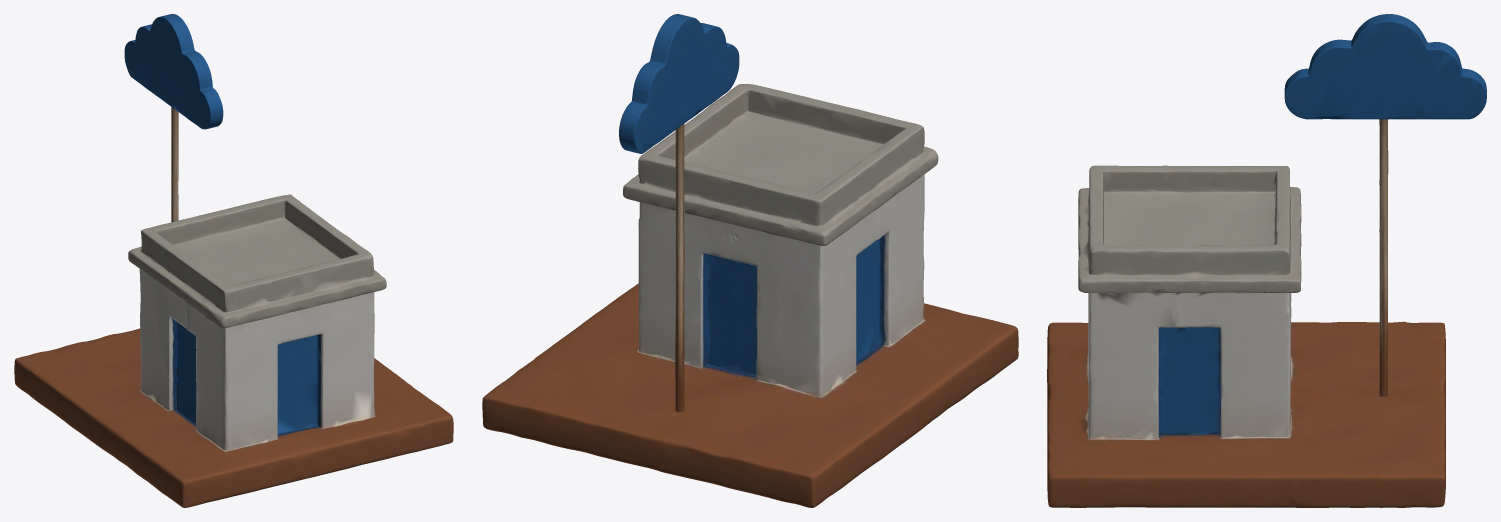
The model's file is rain-house.glb.
The picture shows the model from 3 angles, left to right: view 1: azimuth 30°, elevation 25°; view 2: azimuth 150°, elevation 25°; view 3: azimuth 270°, elevation 25°; orthographic projection. The views are drawn at different scales.
Parts seen in each view (by area): view 1: tripo_node_44416784-b95a-4059-a0ae-e25ae5531aa0; view 2: tripo_node_44416784-b95a-4059-a0ae-e25ae5531aa0; view 3: tripo_node_44416784-b95a-4059-a0ae-e25ae5531aa0.
Part boxes in pixels (left/top/right/bottom): tripo_node_44416784-b95a-4059-a0ae-e25ae5531aa0: left=14, top=14, right=453, bottom=507; tripo_node_44416784-b95a-4059-a0ae-e25ae5531aa0: left=482, top=14, right=1018, bottom=507; tripo_node_44416784-b95a-4059-a0ae-e25ae5531aa0: left=1047, top=14, right=1486, bottom=507.
Size of the model in its own units: 0.8078 by 1 by 0.9629.
Materials: 1 (1 with a texture image).
